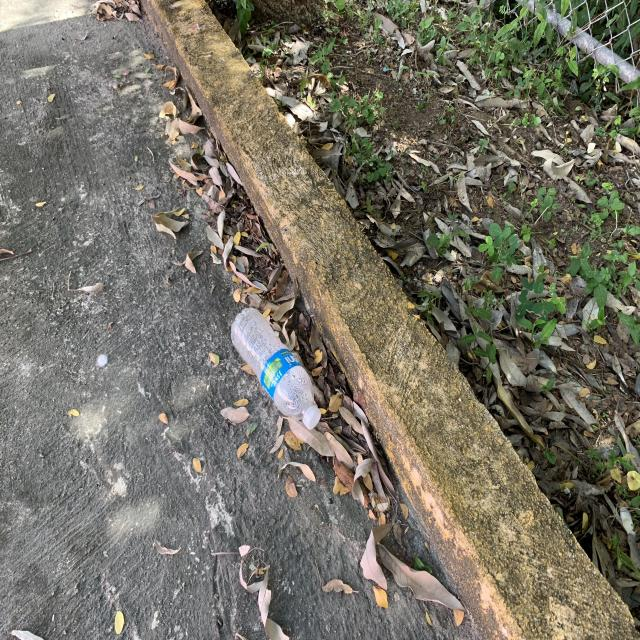litter: (229, 307, 320, 428)
